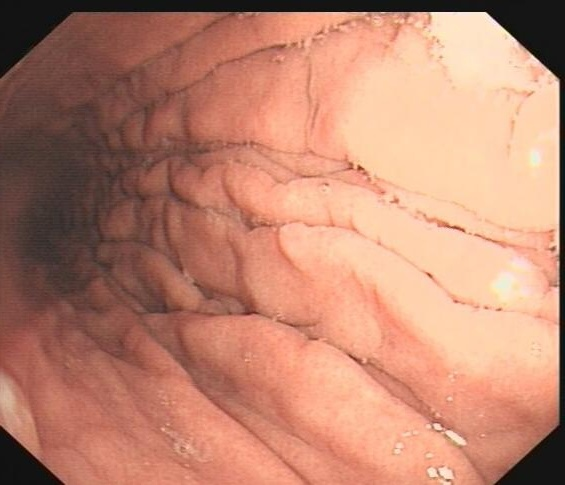Polyp: (271, 216, 332, 276)
